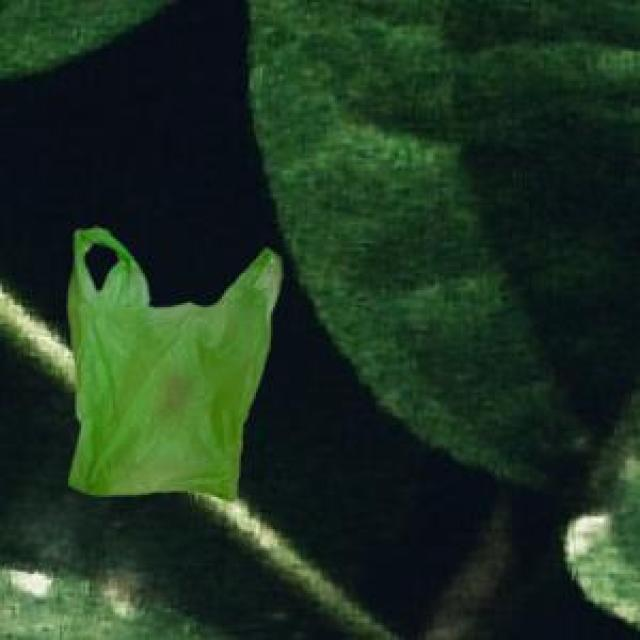waste: (68, 228, 281, 497)
